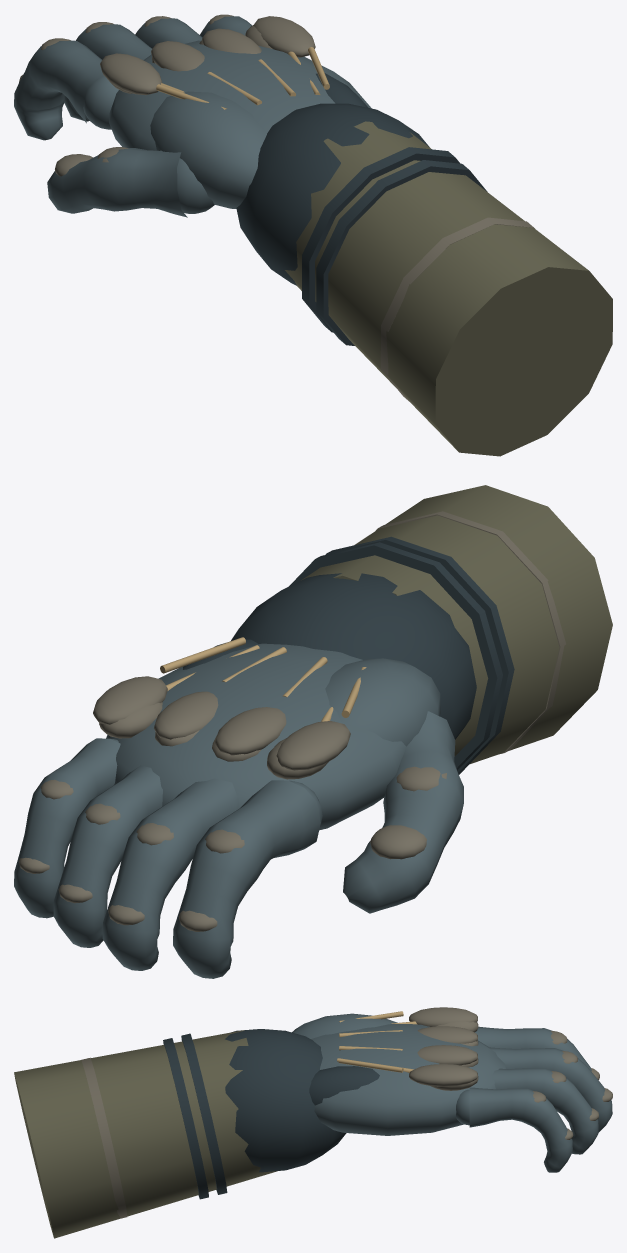
File: glove_drawer.glb
The picture shows the model from 3 angles, top to bottom: view 1: azimuth 30°, elevation 25°; view 2: azimuth 150°, elevation 25°; view 3: azimuth 270°, elevation 25°; orthographic projection. The views are drawn at different scales.
Bounding box in the file's own units: 0.1448 × 0.1087 × 0.3217.
